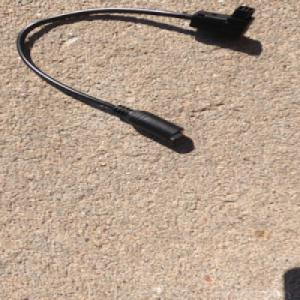Wire: (14, 4, 258, 142)
